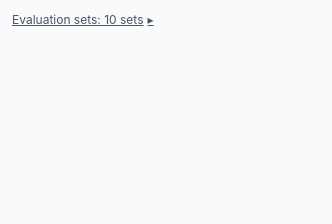
it: SetList › expands to one set per line, left-justified, each with its own text
Click the button with test id "set-list-toggle". click: x=83, y=20
box: [12,12,154,28]
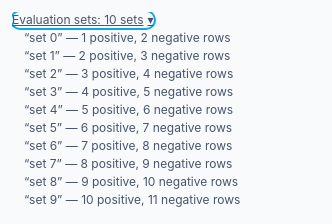
Now the button with test id "set-list-toggle" is expanded, box [12,12,154,28]
Now the button with test id "set-list-toggle" shows "▾", box [12,12,154,28]
Now the list is shown, box [24,30,240,207]
